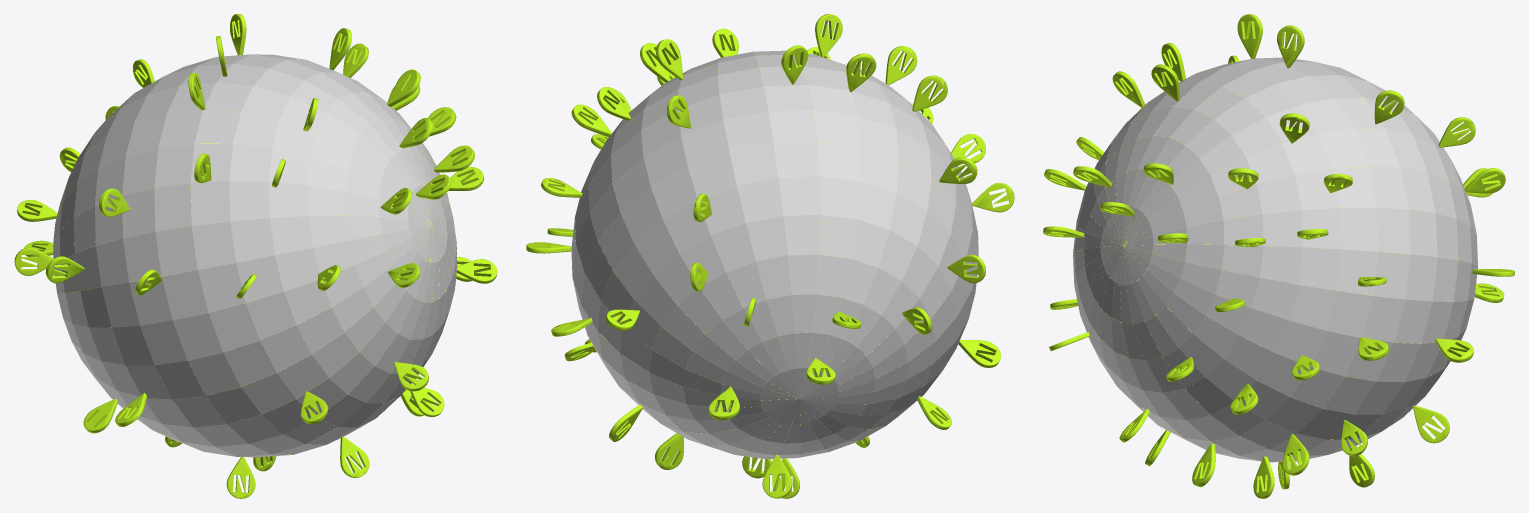
File: NAKA-Globe_optimized.glb
The picture shows the model from 3 angles, left to right: view 1: azimuth 30°, elevation 25°; view 2: azimuth 150°, elevation 25°; view 3: azimuth 270°, elevation 25°; orthographic projection.
Visible parts, largest first — view 1: Sphere.013; view 2: Sphere.013; view 3: Sphere.013.
Boxes of the visible parts, bbox=[...] form: Sphere.013: bbox=[14, 14, 497, 498]; Sphere.013: bbox=[526, 14, 1014, 498]; Sphere.013: bbox=[1043, 14, 1514, 498].
Bounding box in the file's own units: 0.4798 × 0.4844 × 0.4693.
